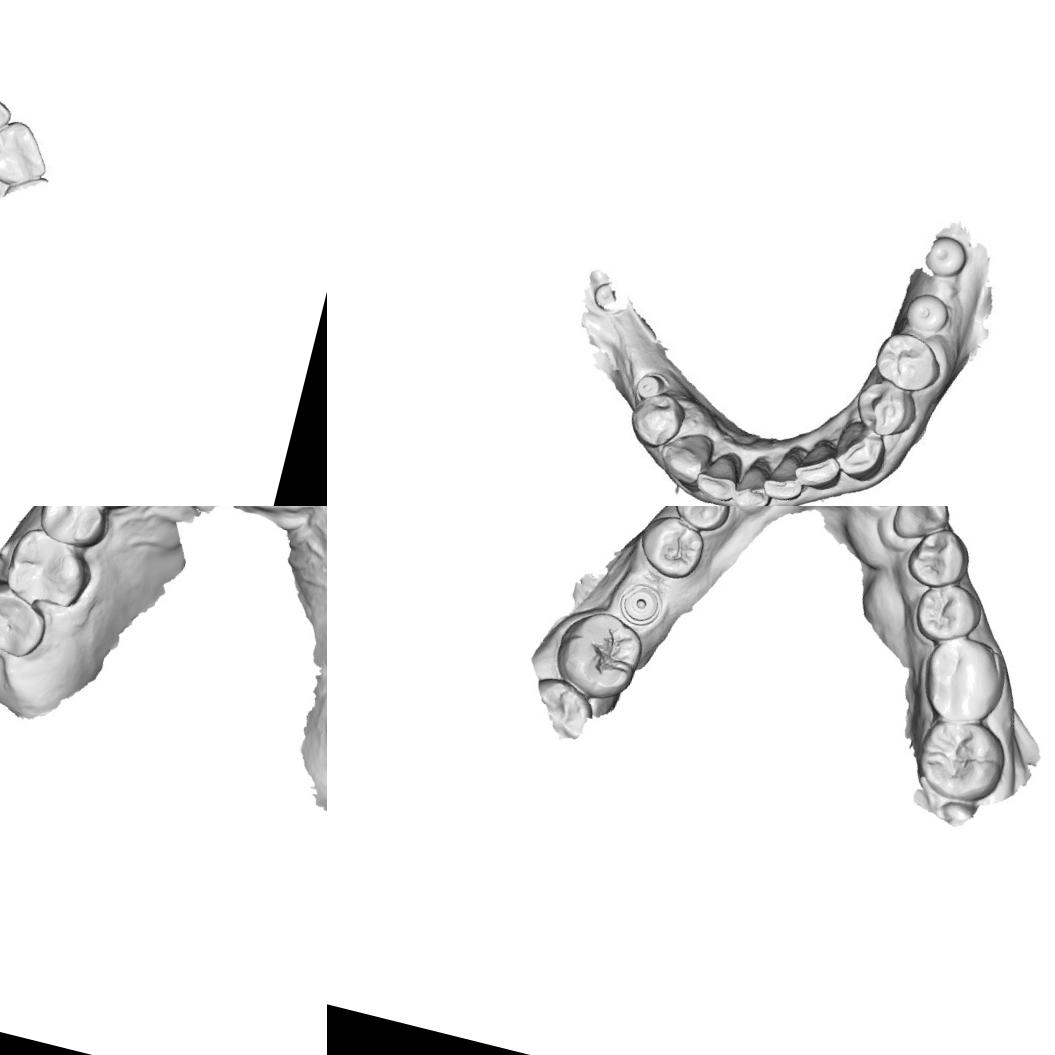canine: (654, 423, 716, 491), (830, 418, 893, 484), (886, 506, 958, 550)
implant: (920, 234, 974, 284), (617, 583, 666, 630), (902, 288, 950, 334), (629, 366, 666, 404)
incisor: (0, 111, 60, 191), (795, 436, 850, 490), (693, 449, 745, 506), (764, 444, 809, 502), (730, 454, 775, 506)
molar: (547, 603, 649, 708), (912, 628, 1013, 733), (910, 712, 1011, 808), (0, 522, 97, 621), (0, 575, 56, 665)
premolar: (907, 575, 986, 649), (868, 325, 950, 396), (632, 510, 708, 584), (847, 375, 924, 443), (900, 523, 972, 595), (624, 389, 690, 454), (32, 506, 114, 553), (668, 506, 738, 535)
